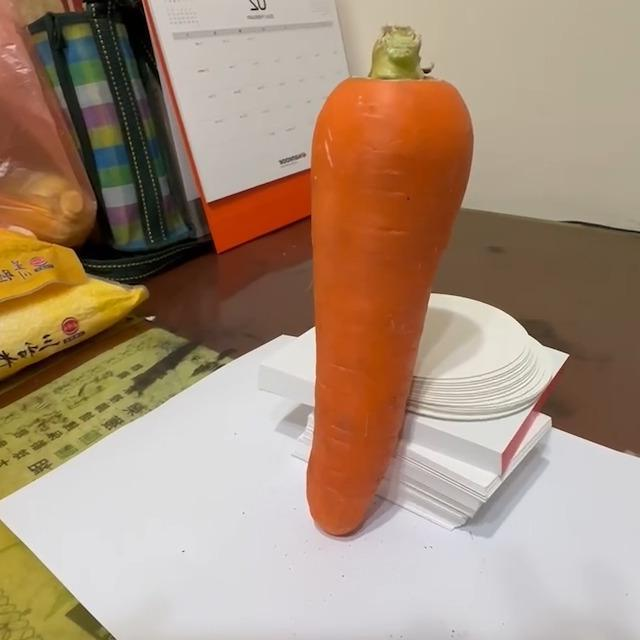carrot: (306, 25, 475, 540)
